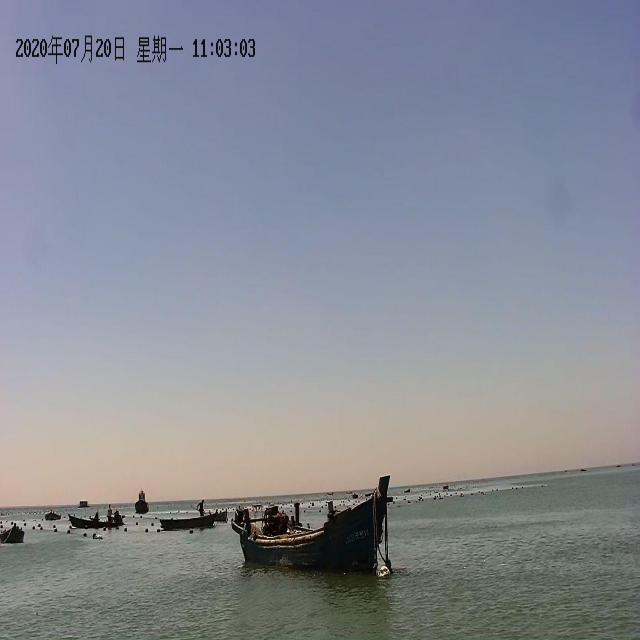ship2: (235, 482, 389, 575), (159, 503, 228, 532), (62, 511, 130, 531), (0, 525, 24, 545)
